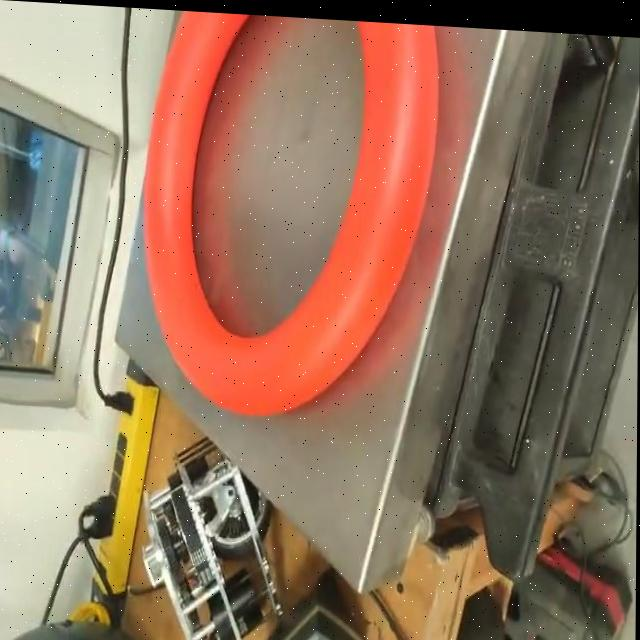note: (137, 6, 443, 422)
